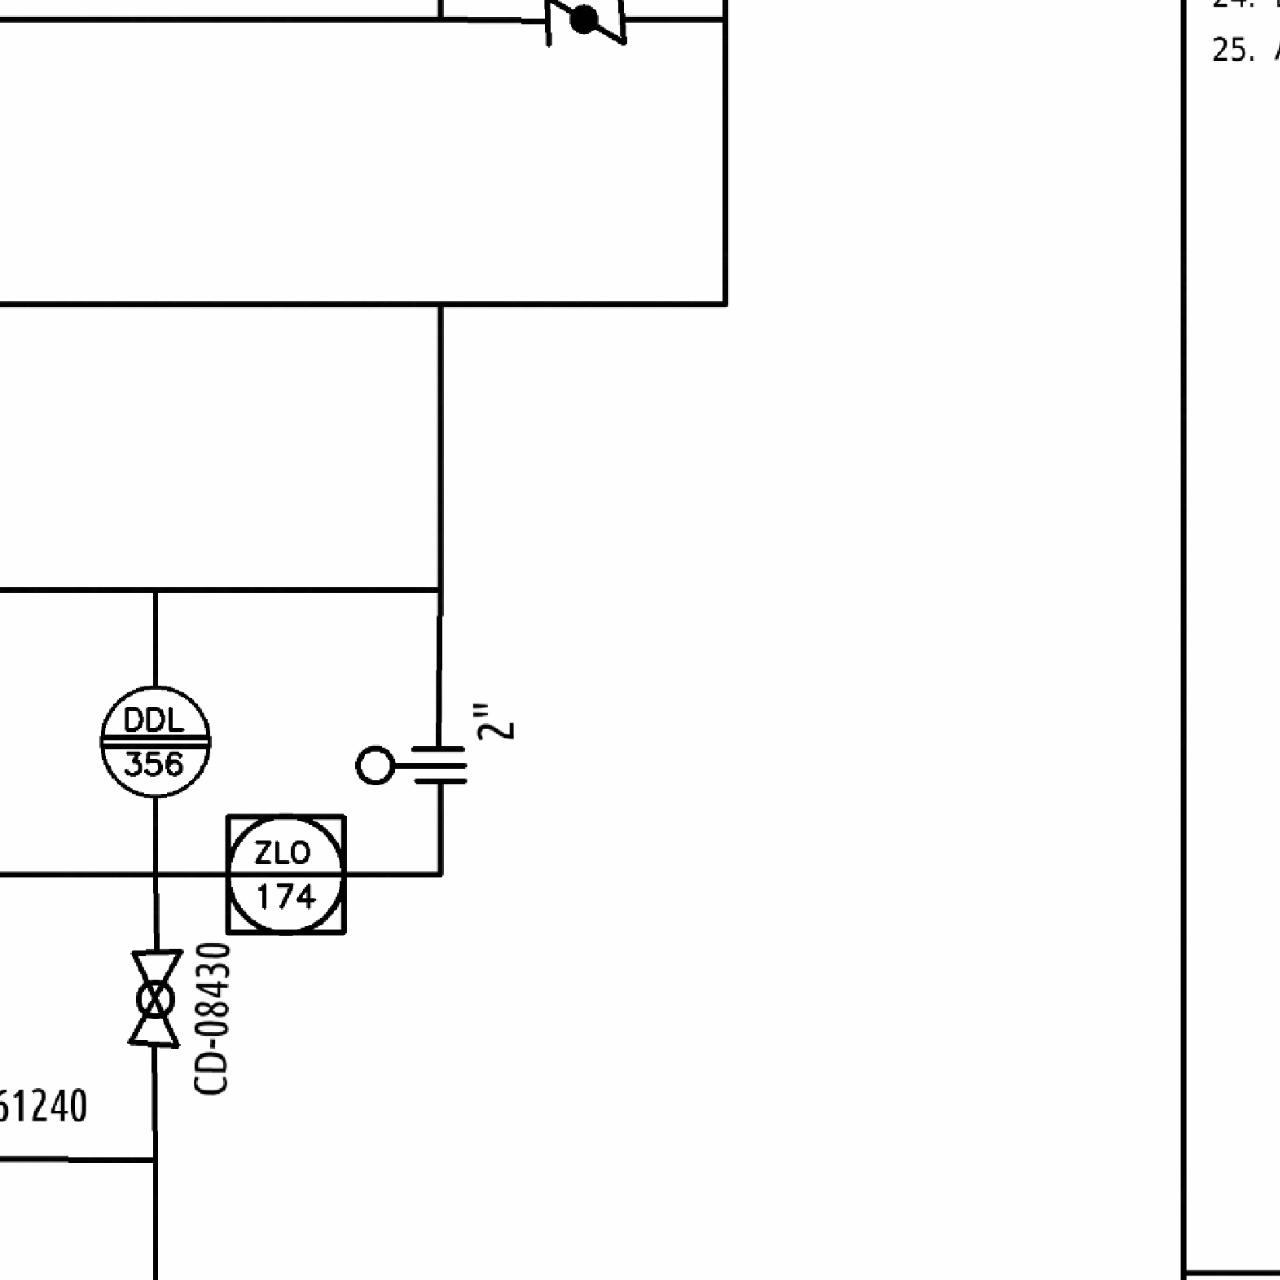Control-Panel: (93, 678, 215, 804)
